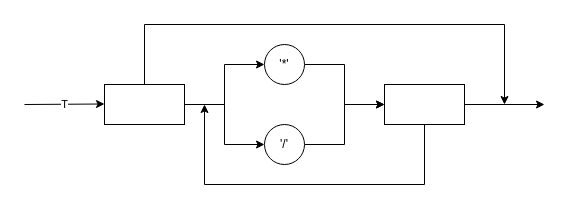
The diagram is 570 pixels wide and 210 high, and some of its shapes have lost their labels. The shapes that lost their labels are listed below. From the top down, each one's box as (x1, y1, x2, y2) in pixels, then its label:
(104, 84, 184, 124): F1
(384, 84, 464, 124): F2
